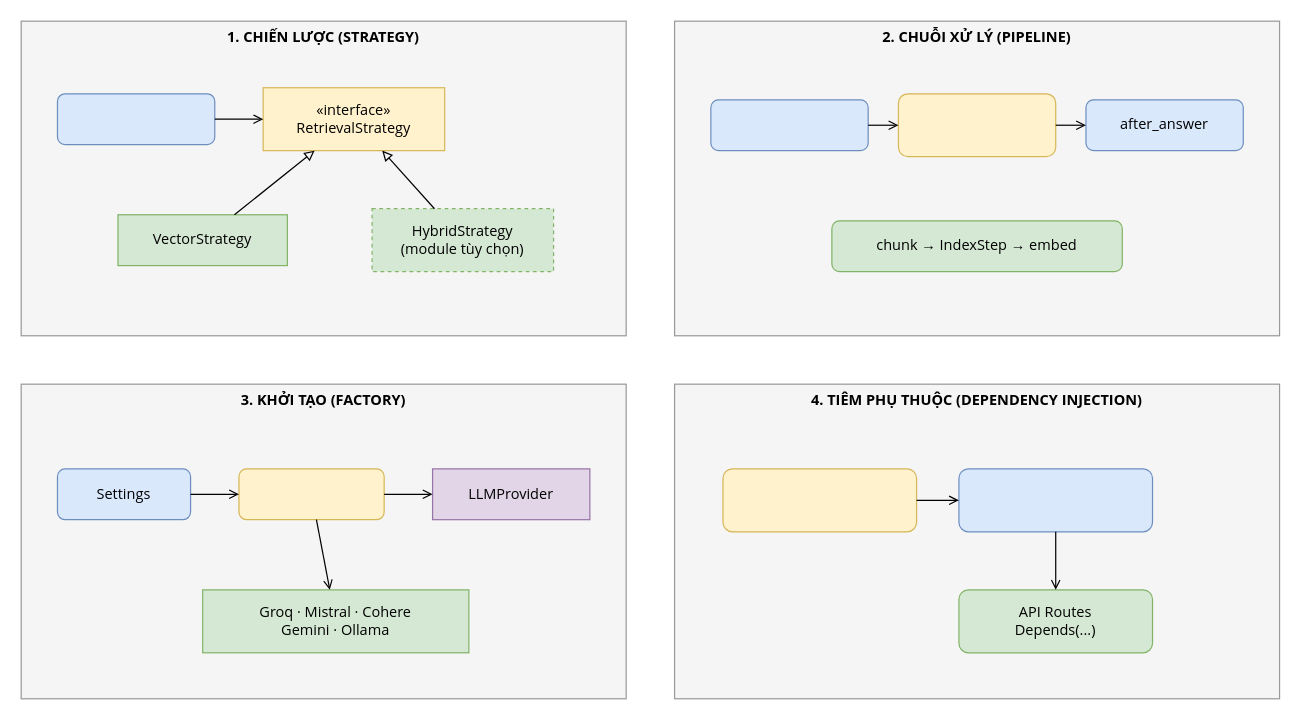
This 1301x720 diagram has some shape labels left out. The shapes that lost their labels are listed below. From the top down, each one's centre as x and y in pixels, then its label:
the point at 135,119: QueryPipeline
the point at 789,125: before_retrieval
the point at 976,125: embed → retrieval → answer
the point at 311,494: llm_factory
the point at 819,500: FastAPI lifespan khởi tạo singleton
the point at 1055,500: DI container set/get dependency
